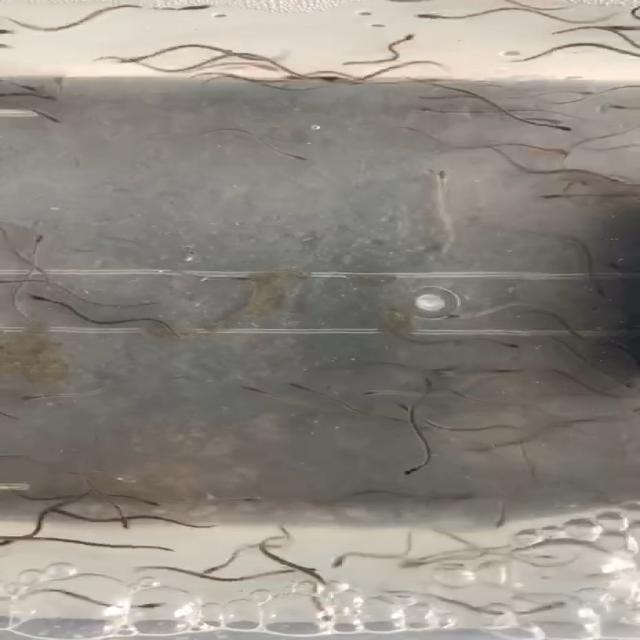active_glass_eel: (429, 170, 462, 195), (526, 108, 568, 127), (384, 32, 425, 51), (410, 8, 461, 23), (239, 383, 284, 399), (398, 553, 434, 573), (534, 190, 593, 201), (24, 111, 66, 126), (194, 558, 230, 575), (21, 292, 63, 306), (171, 5, 222, 16), (316, 608, 341, 630), (539, 145, 581, 158), (230, 494, 268, 508), (114, 53, 158, 65), (27, 232, 52, 253), (598, 99, 640, 111), (275, 151, 311, 165), (407, 106, 452, 117), (284, 381, 316, 396), (399, 462, 428, 478), (328, 552, 352, 571), (11, 79, 46, 92), (31, 90, 66, 102), (443, 313, 473, 327), (309, 75, 347, 86), (532, 601, 570, 612), (277, 69, 309, 82), (129, 599, 166, 610), (429, 368, 458, 382), (536, 122, 576, 132), (136, 495, 164, 509), (19, 392, 54, 403), (587, 282, 611, 298), (40, 504, 72, 516), (396, 402, 423, 416), (117, 515, 139, 532), (360, 385, 391, 397), (0, 38, 24, 52), (569, 88, 599, 99), (494, 342, 532, 350), (0, 536, 24, 548), (492, 517, 512, 531), (0, 28, 24, 37)
